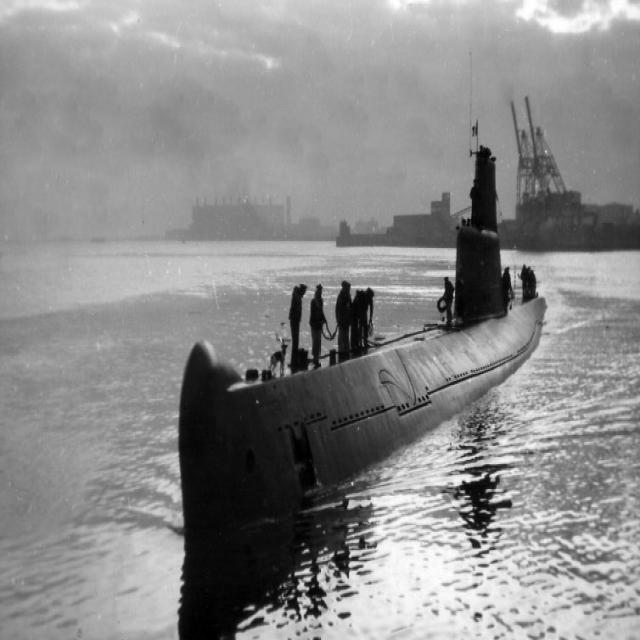submarine: (184, 151, 549, 544)
